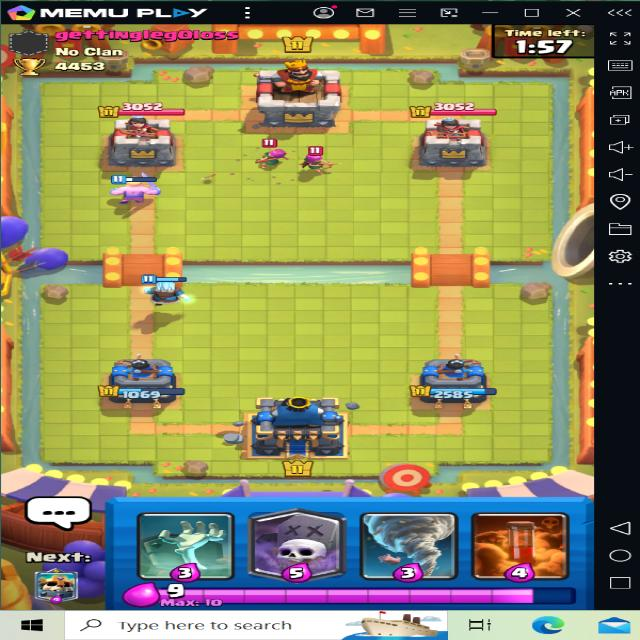archer: (301, 140, 345, 174), (256, 136, 284, 169)
